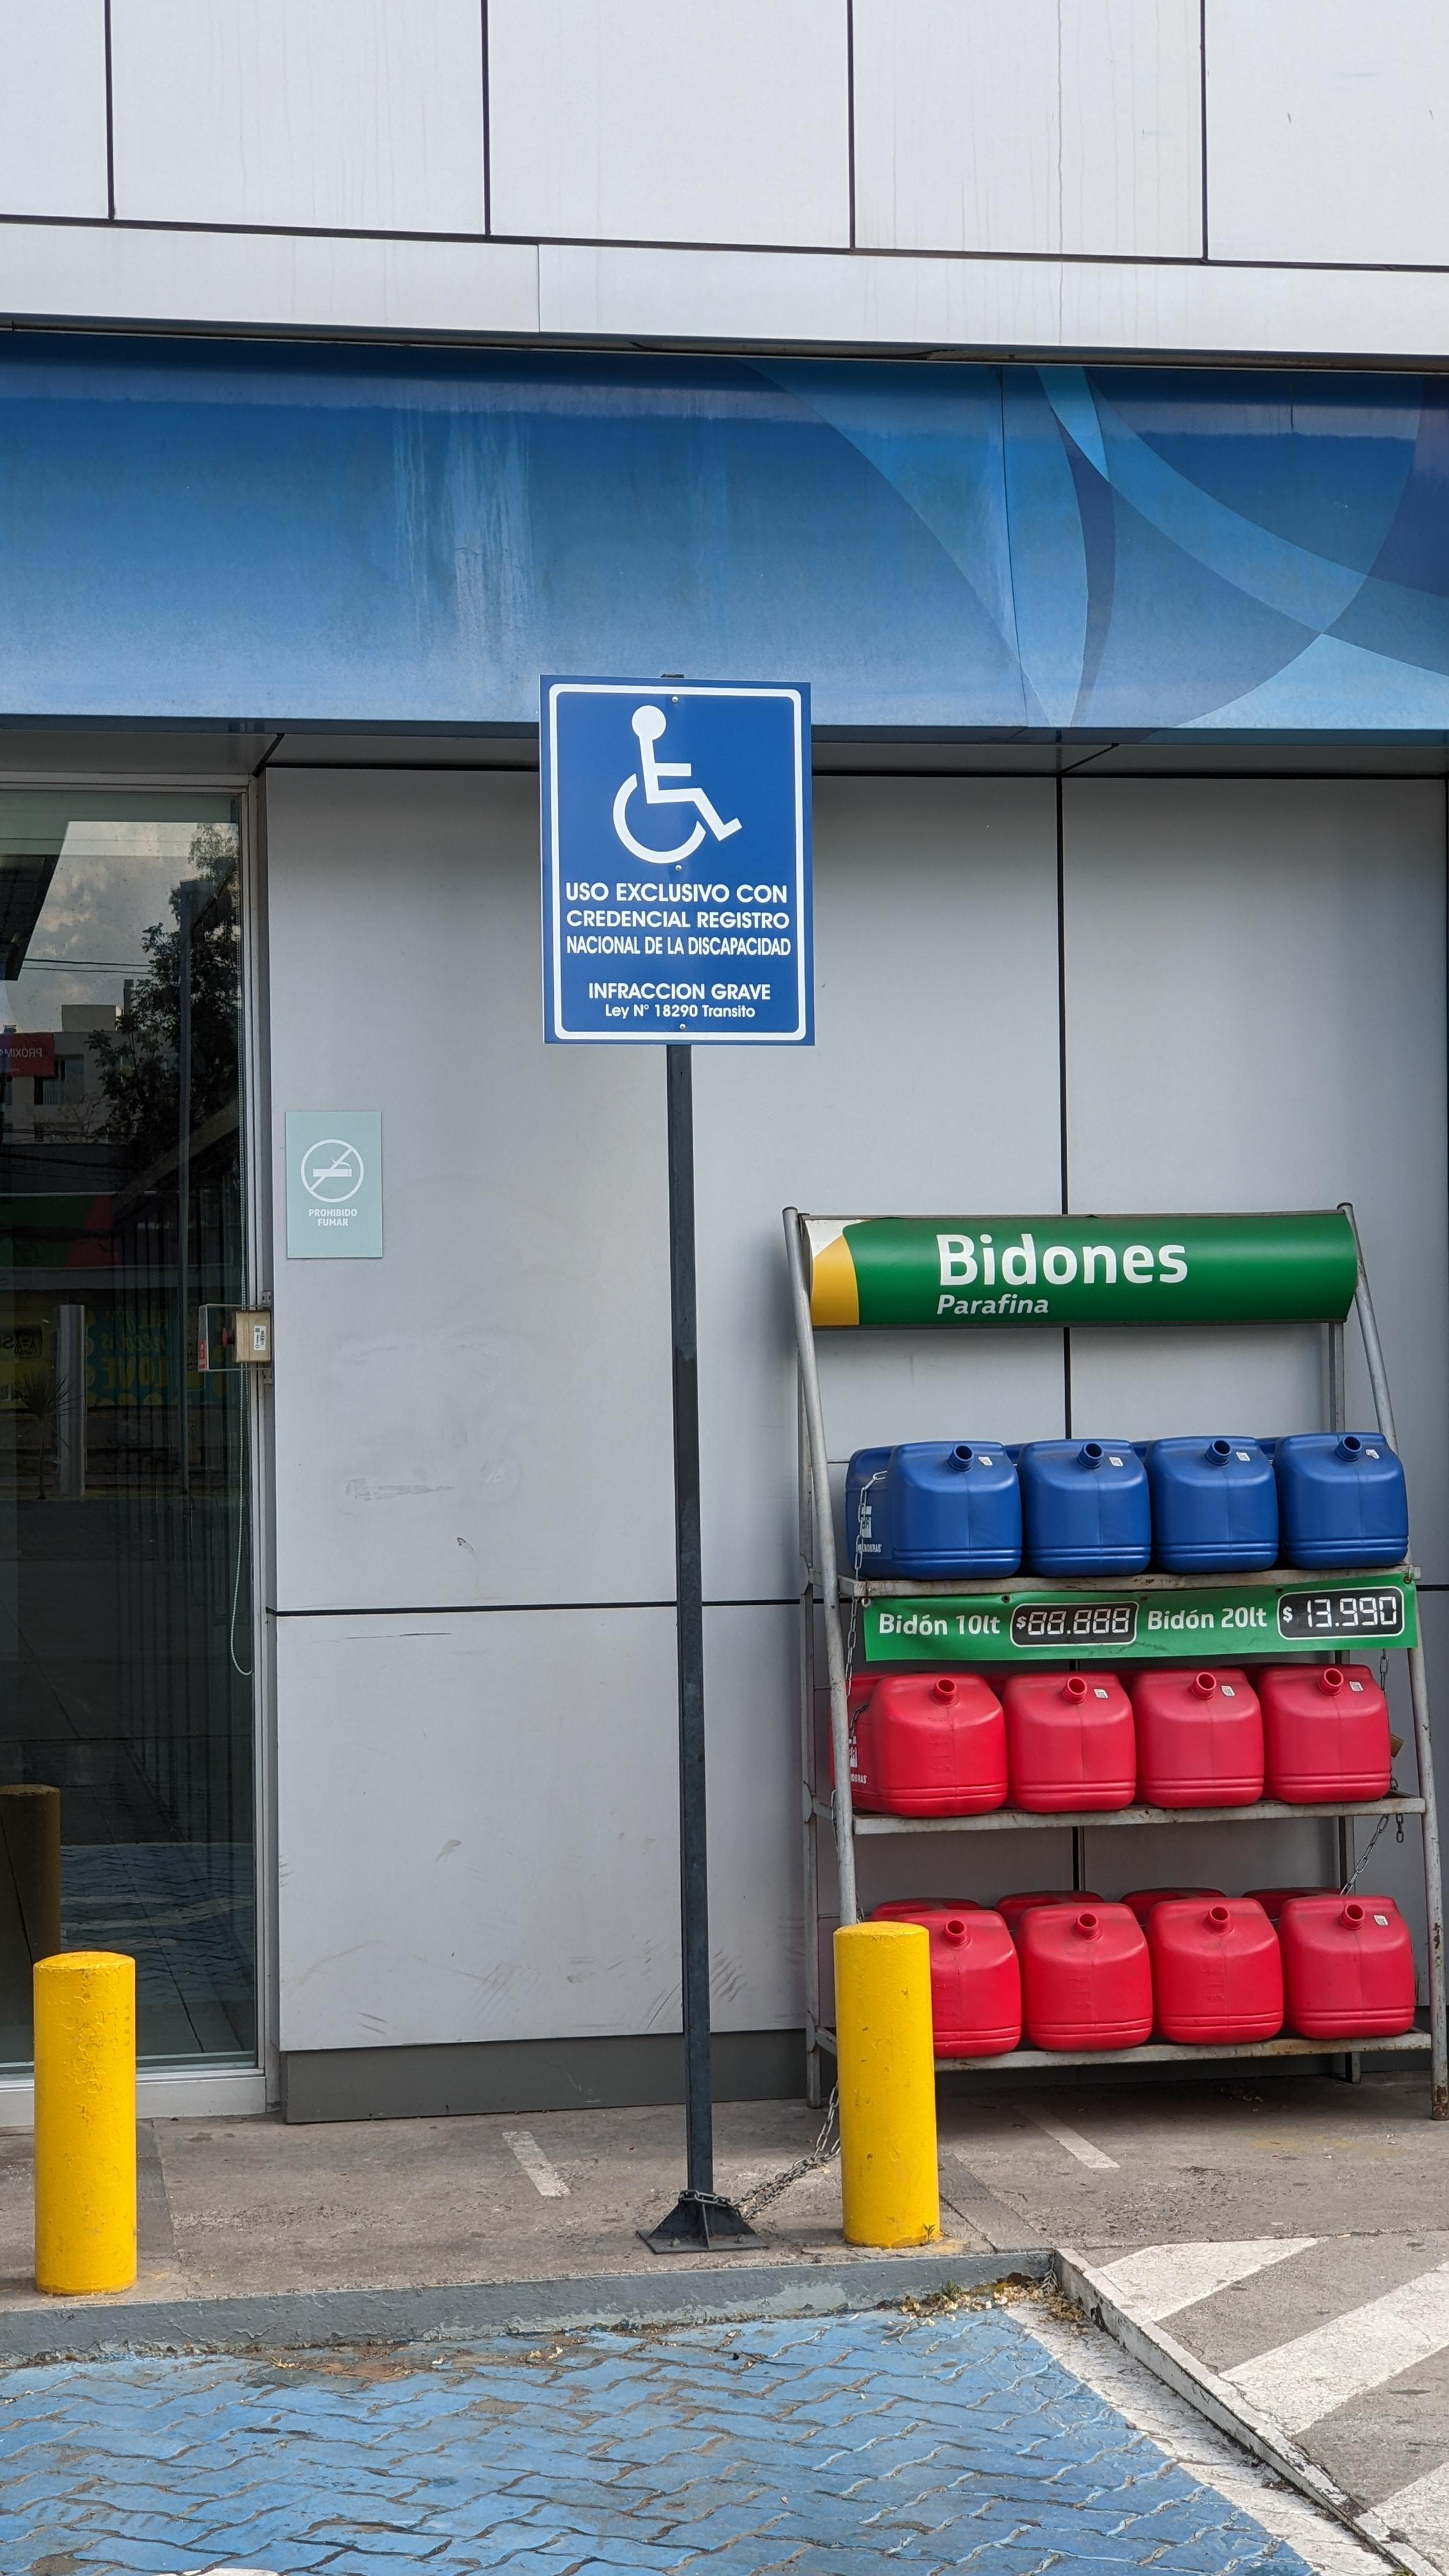handicapped symbol: (610, 704, 743, 870)
